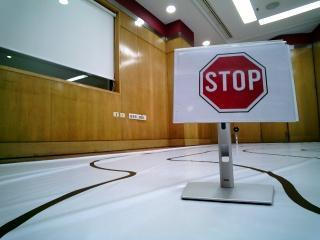stop: (180, 54, 283, 115)
